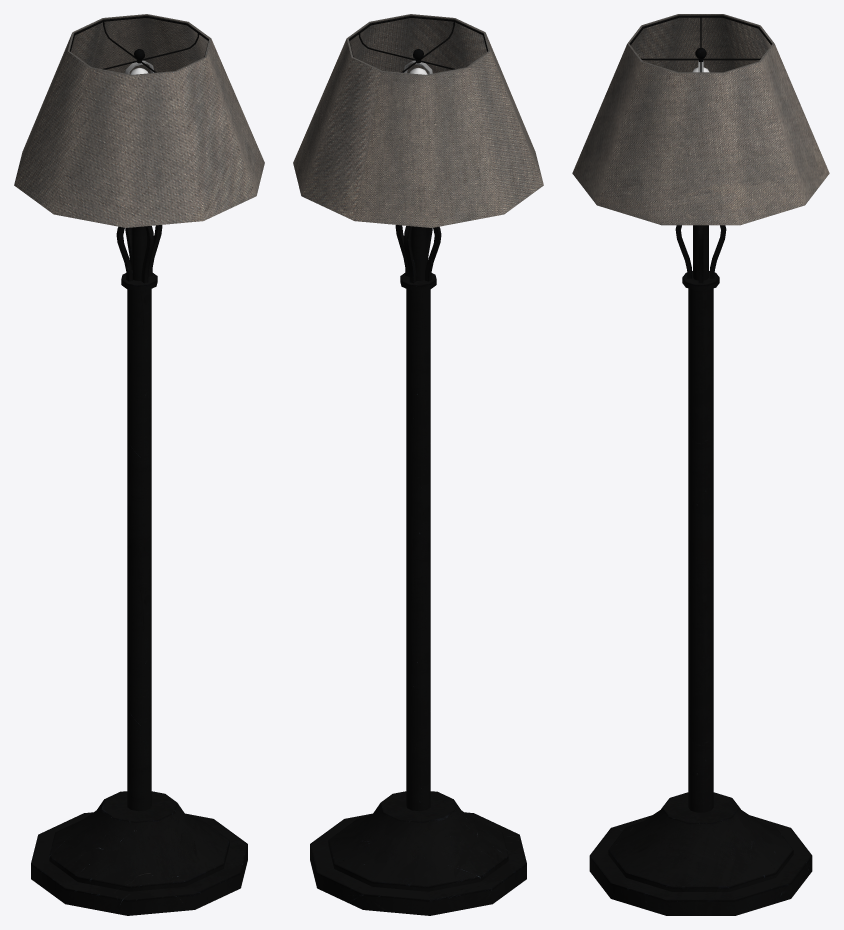
The model's file is lamp.glb.
3 renders of one model, left to right at view 1: azimuth 30°, elevation 25°; view 2: azimuth 150°, elevation 25°; view 3: azimuth 270°, elevation 25°, orthographic.
Visible parts, largest first — view 1: Object_2; view 2: Object_2; view 3: Object_2.
Boxes of the visible parts, box(x1,y1,x2,y2) form: Object_2: box(14, 14, 264, 915); Object_2: box(293, 14, 543, 915); Object_2: box(572, 14, 829, 915).
Bounding box in the file's own units: 1.76 × 6.58 × 1.86.
1 material, 1 textured.
